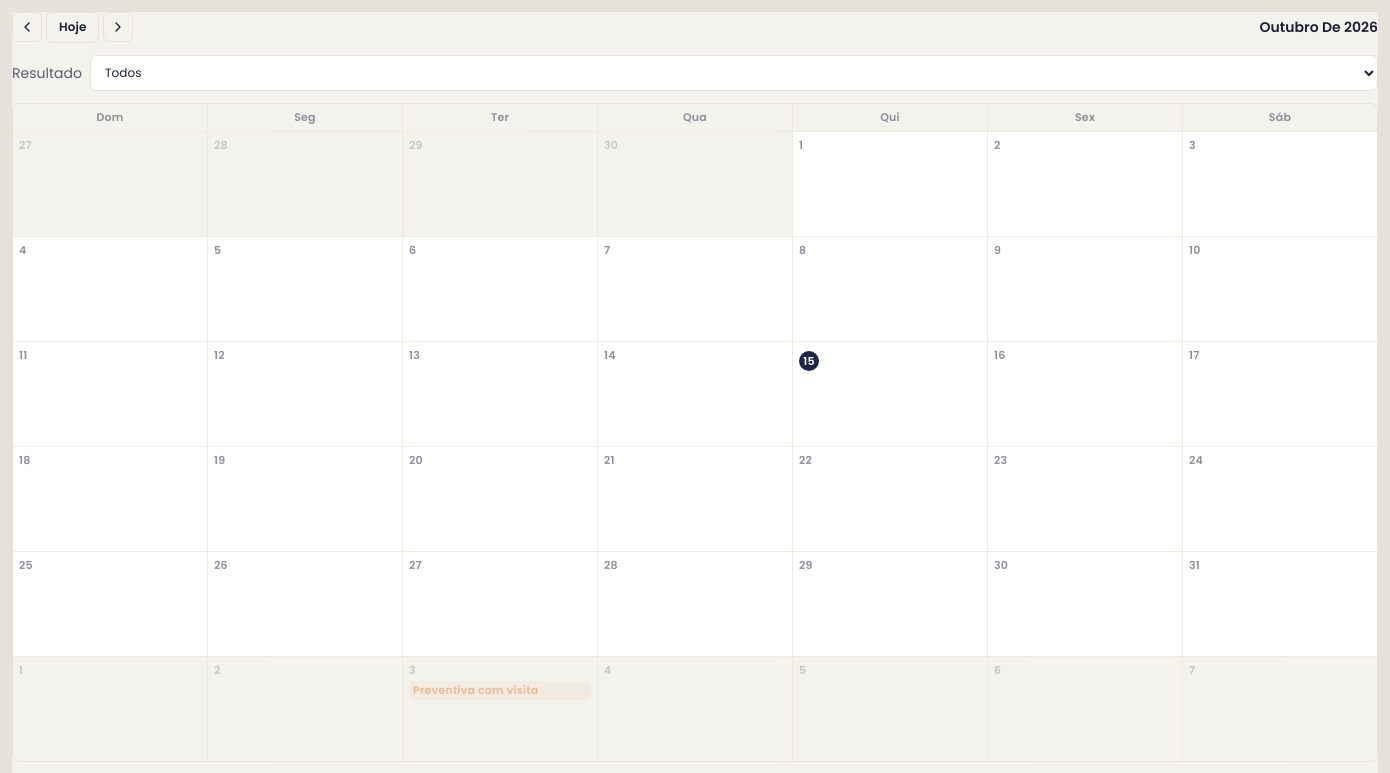
PreventivasCalendarioView › muda de mês preservando a ocorrência na data de visita agendada
The image size is (1390, 773).
Expected: the text "outubro de 2026" is shown, [1260, 17, 1378, 38]
Expected: the button with aria-label "Preventiva com visita: Agendada" is shown, [409, 682, 591, 700]
Click the button named "Próximo mês" at (118, 27), box [104, 12, 134, 42]
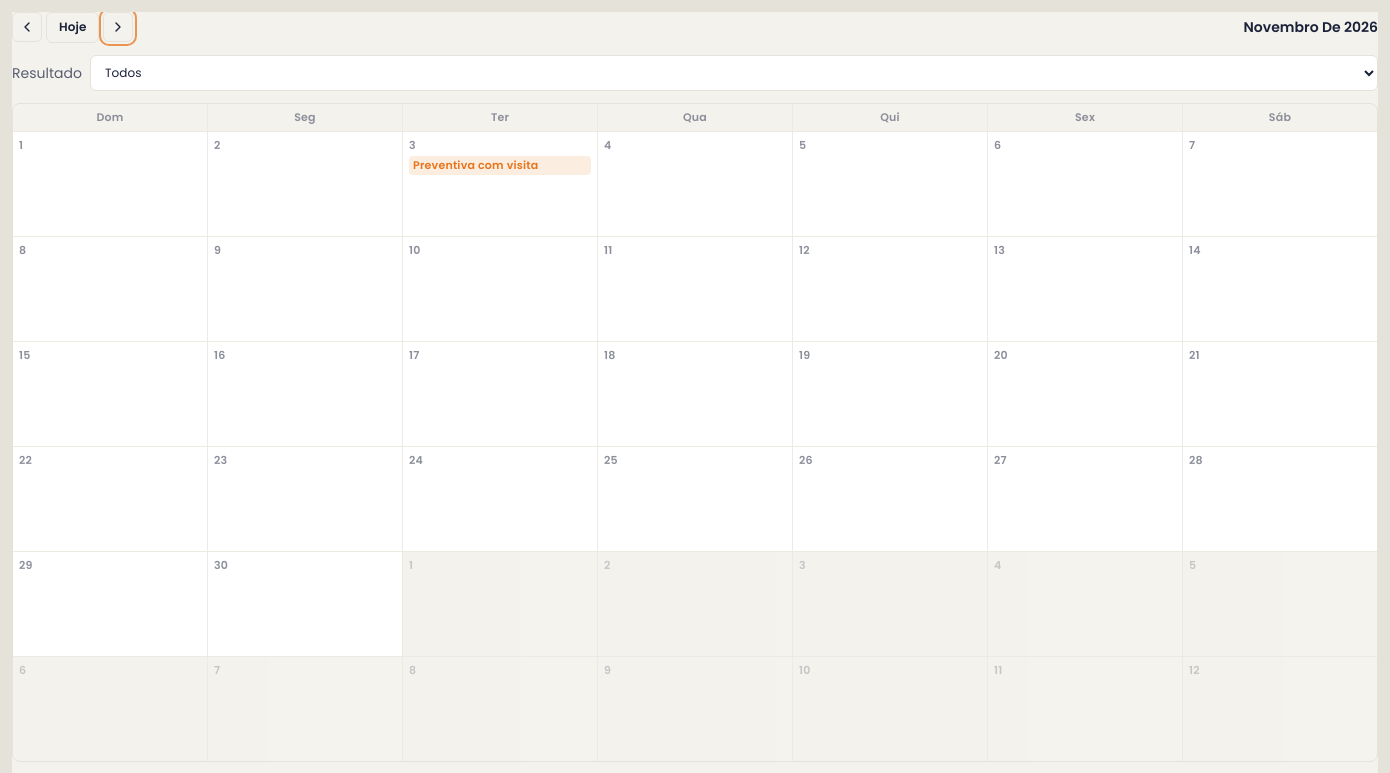
Expected: the button with aria-label "Preventiva com visita: Agendada" is shown, [409, 156, 591, 175]
Expected: the text "novembro de 2026" is shown, [1244, 17, 1378, 38]
